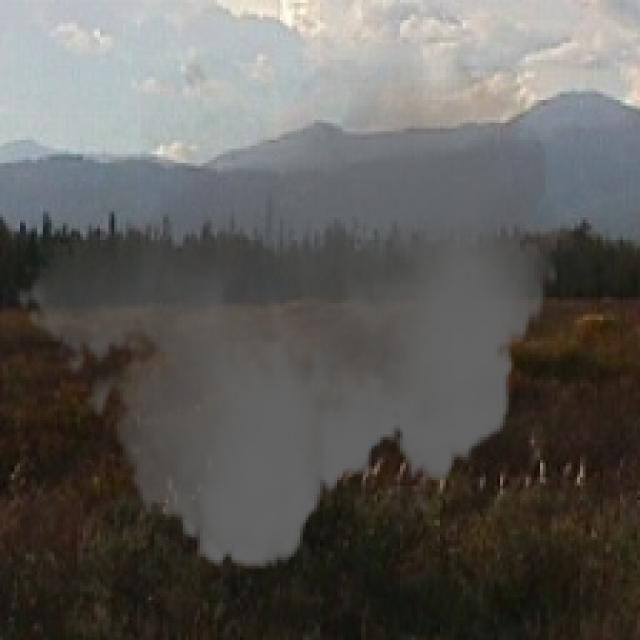Smoke: (14, 37, 557, 589)
